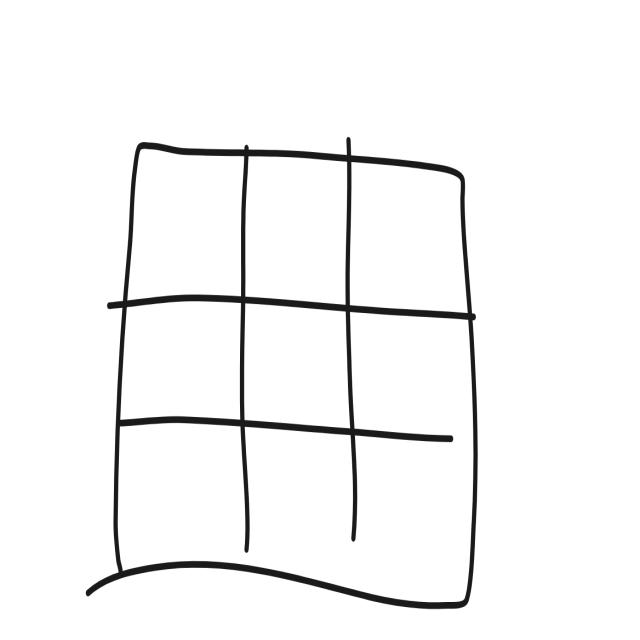grid: (104, 121, 485, 614)
